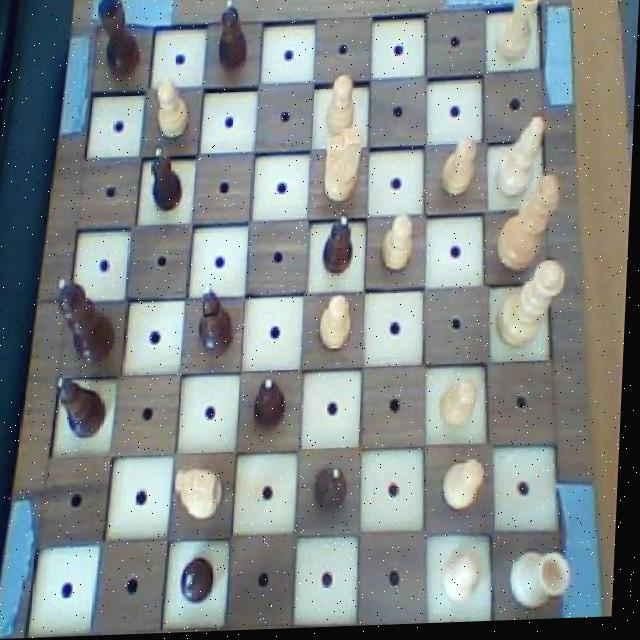bishop: (55, 372, 113, 445), (197, 280, 241, 362)
black-bishop: (54, 270, 124, 371)
black-knight: (213, 0, 255, 75), (147, 147, 190, 213), (314, 465, 359, 523), (323, 212, 361, 280), (252, 377, 294, 438), (182, 554, 223, 608)
black-queen: (91, 0, 148, 85)
black-rook: (492, 118, 549, 207)
white-bishop: (496, 176, 564, 281)
white-king: (322, 123, 369, 211), (175, 460, 233, 529)
white-knight: (151, 76, 196, 145), (444, 457, 493, 520), (439, 381, 486, 439), (324, 71, 362, 141), (441, 140, 481, 206), (319, 293, 359, 358), (382, 212, 421, 277), (446, 553, 491, 607)
white-pawn: (494, 260, 572, 355)
white-queen: (514, 549, 582, 616), (489, 0, 546, 69)
